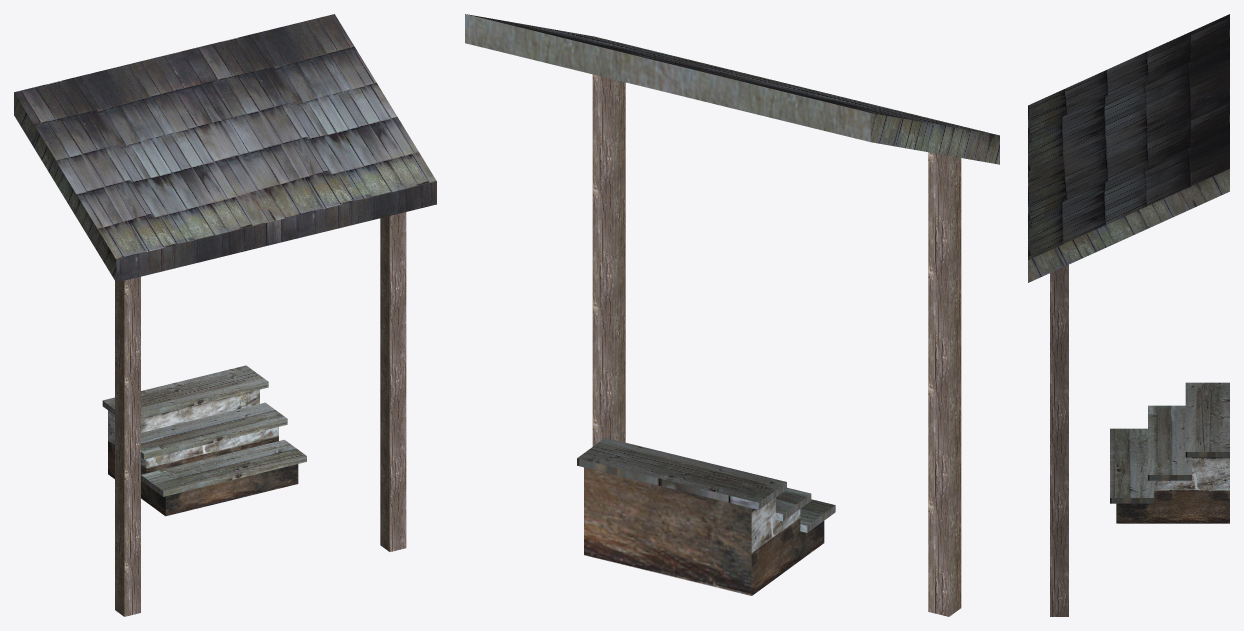
Rendered from backdoor2.fbx.
The picture shows the model from 3 angles, left to right: view 1: azimuth 30°, elevation 25°; view 2: azimuth 150°, elevation 25°; view 3: azimuth 270°, elevation 25°; orthographic projection. The views are drawn at different scales.
Parts seen in each view (by area): view 1: backdoor2; view 2: backdoor2; view 3: backdoor2.
Part boxes in pixels (x1,y1,x2,y2): backdoor2: (14, 14, 436, 616); backdoor2: (465, 14, 999, 616); backdoor2: (1028, 14, 1229, 616).
Bounding box in the file's own units: 23200 × 32000 × 12800.
